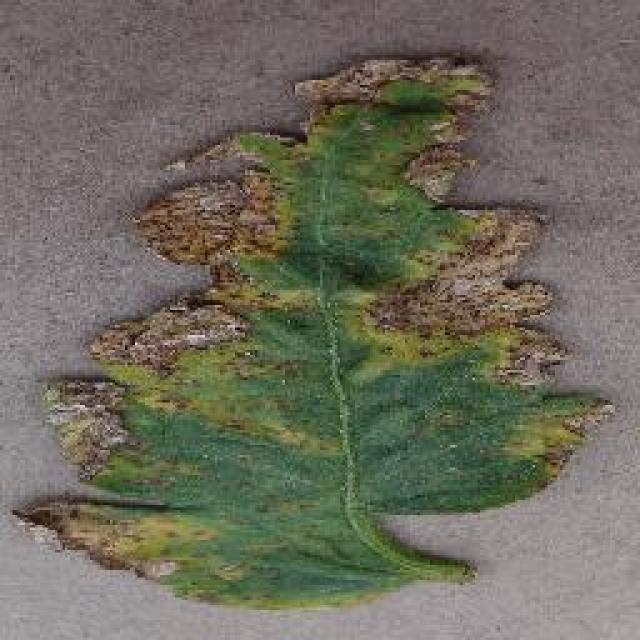Tomato bacterial spot leaf: (3, 36, 617, 616)
